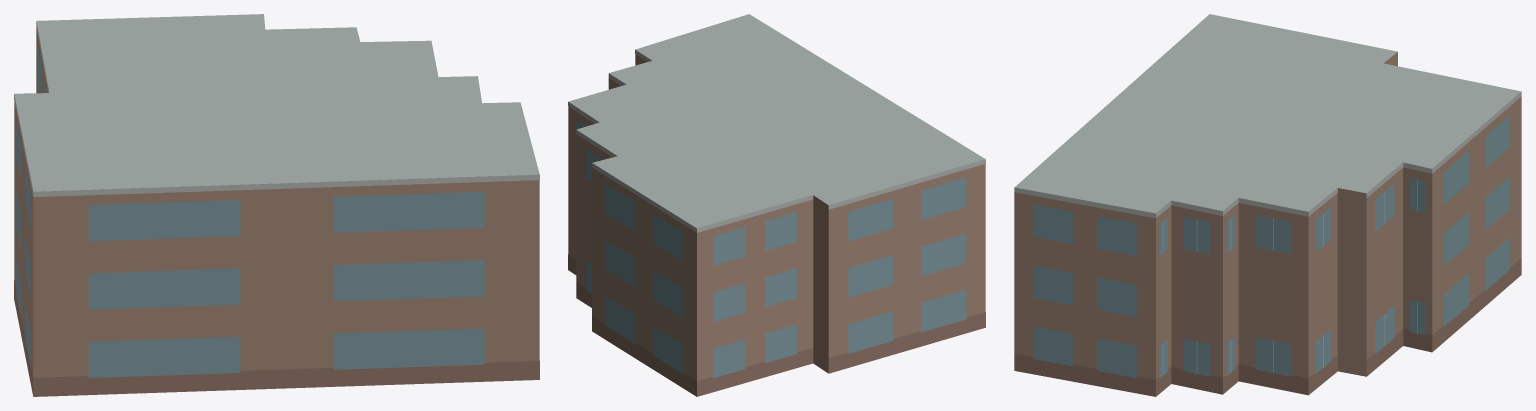
Rendered from survey-upis-32671721.glb.
3 renders of one model, left to right at view 1: azimuth 30°, elevation 25°; view 2: azimuth 150°, elevation 25°; view 3: azimuth 270°, elevation 25°, orthographic. The views are drawn at different scales.
Parts seen in each view (by area): view 1: survey-upis-32671721.tmp; view 2: survey-upis-32671721.tmp; view 3: survey-upis-32671721.tmp.
Boxes of the visible parts, box(x1,y1,x2,y2) form: survey-upis-32671721.tmp: box(14, 14, 539, 396); survey-upis-32671721.tmp: box(568, 14, 985, 396); survey-upis-32671721.tmp: box(1014, 14, 1521, 396).
Size of the model in its own units: 21.35 by 9.15 by 22.93.
